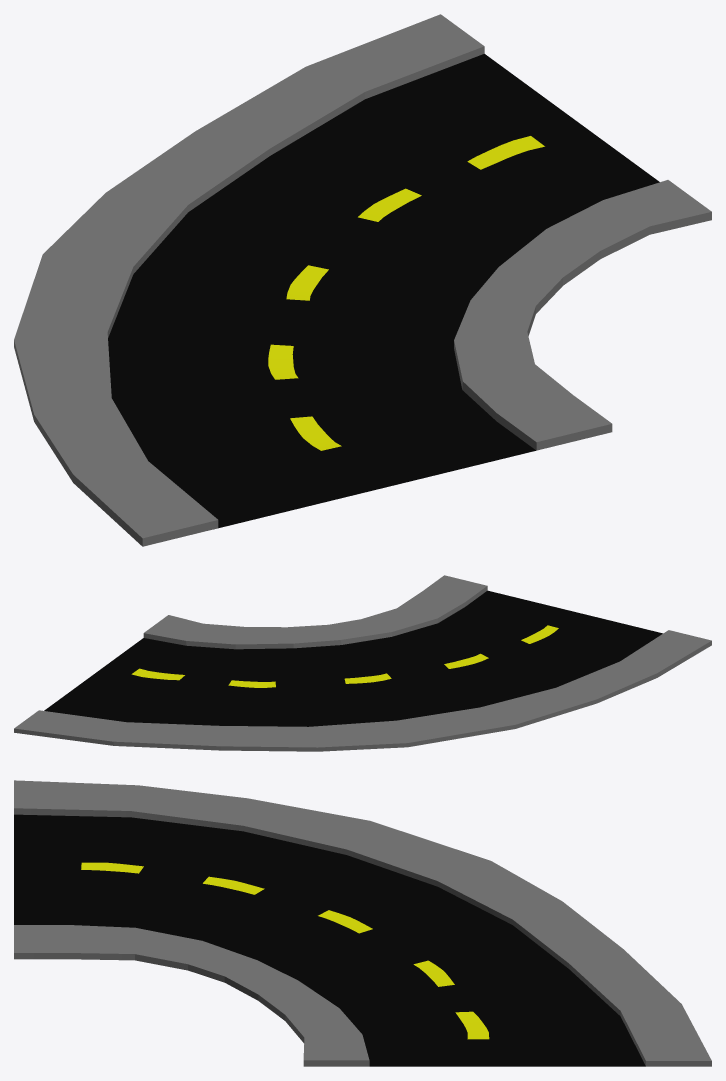
The model's file is Curve Road Final.fbx.
The picture shows the model from 3 angles, top to bottom: view 1: azimuth 30°, elevation 25°; view 2: azimuth 150°, elevation 25°; view 3: azimuth 270°, elevation 25°; orthographic projection. The views are drawn at different scales.
Parts seen in each view (by area): view 1: polySurface449; view 2: polySurface449; view 3: polySurface449.
Part boxes in pixels (x1=…): polySurface449: x1=14, y1=14, x2=711, y2=546; polySurface449: x1=14, y1=575, x2=711, y2=751; polySurface449: x1=14, y1=780, x2=711, y2=1066.
Size of the model in its own units: 20.08 by 0.2121 by 21.17.
